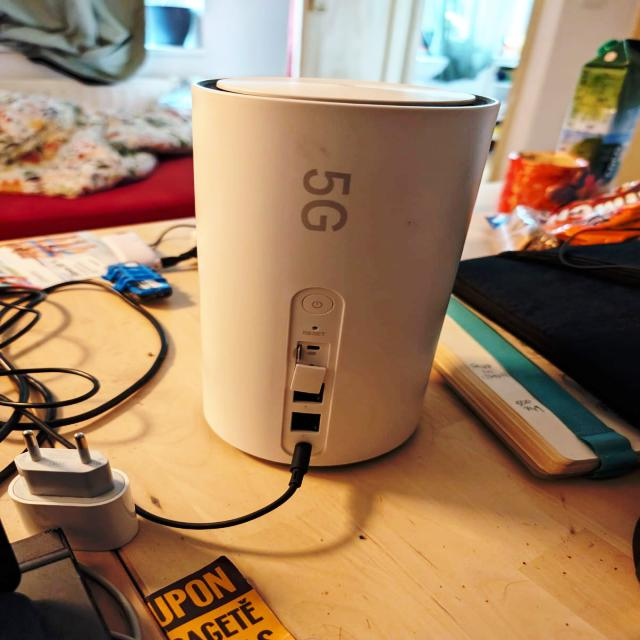lan: (293, 380, 325, 404), (290, 412, 322, 434)
modem: (187, 75, 506, 474)
onbutton: (302, 294, 334, 316)
